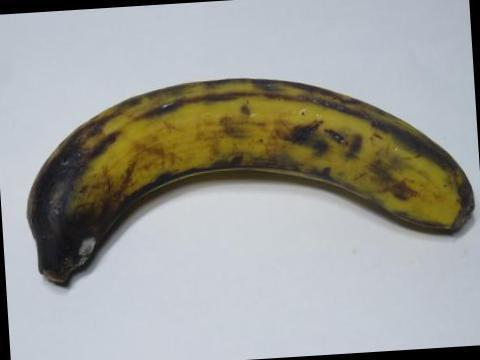overripe: (8, 65, 479, 334)
rotten: (26, 132, 135, 292)
